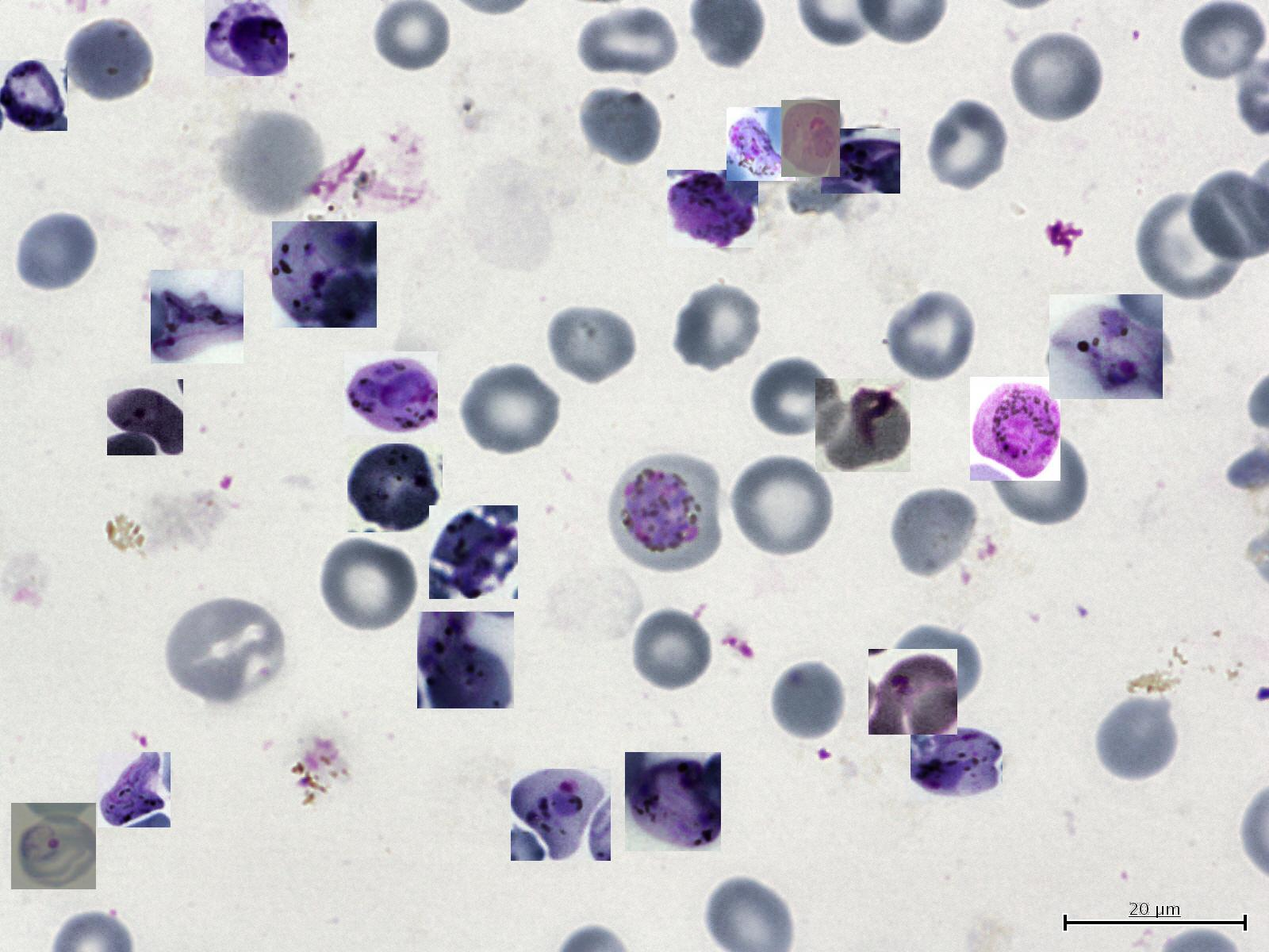Infected: (606, 454, 723, 571), (1049, 294, 1163, 399), (273, 221, 378, 328), (626, 752, 722, 851), (970, 377, 1060, 481), (417, 612, 514, 708), (511, 769, 611, 861), (815, 378, 911, 472), (151, 270, 243, 363), (347, 443, 443, 532), (429, 505, 518, 599), (344, 351, 438, 435), (868, 649, 957, 735), (11, 803, 96, 889), (667, 170, 758, 248), (911, 727, 1003, 801), (205, 0, 288, 77), (107, 379, 183, 455), (98, 752, 171, 827), (821, 129, 900, 194), (727, 107, 796, 181), (0, 60, 67, 131), (781, 100, 840, 177)
Uninfected: (167, 601, 278, 705), (1133, 198, 1242, 301), (730, 453, 833, 559), (989, 426, 1088, 527), (460, 362, 561, 457), (320, 537, 418, 634), (1008, 29, 1104, 124), (885, 287, 979, 384), (229, 111, 319, 209), (888, 486, 980, 581), (59, 11, 155, 102), (673, 281, 764, 373), (924, 97, 1010, 194), (575, 6, 678, 84), (545, 301, 639, 386), (1093, 694, 1180, 782), (576, 84, 664, 171), (629, 606, 714, 693), (890, 626, 981, 705), (13, 210, 98, 294), (1179, 1, 1267, 80), (751, 364, 834, 438), (773, 661, 844, 744)
